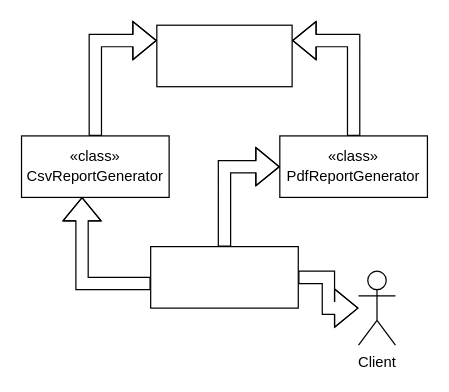
This 449x392 diagram has some shape labels left out. The shapes that lost their labels are listed below. From the top down, each one's centre as x and y in pixels, then its label:
(x=224, y=55): «abstract class» ReportGenerator
(x=223, y=276): «class» Main
